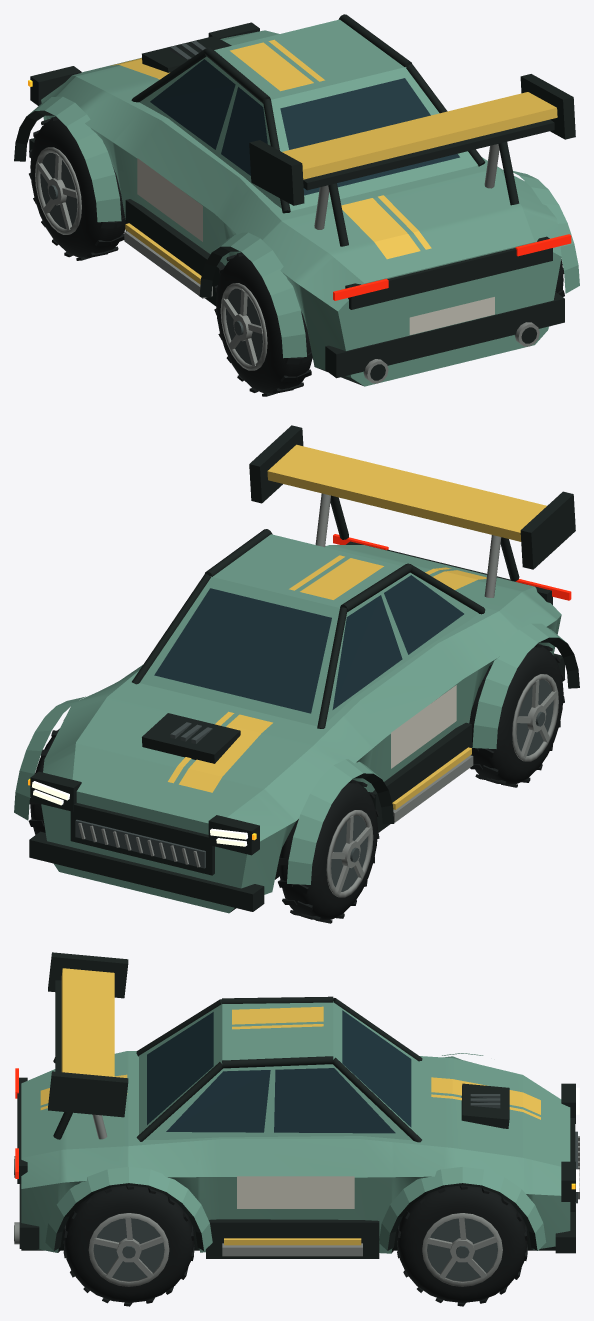
File: dart.glb
The picture shows the model from 3 angles, top to bottom: view 1: azimuth 30°, elevation 25°; view 2: azimuth 150°, elevation 25°; view 3: azimuth 270°, elevation 25°; orthographic projection. The views are drawn at different scales.
Visible parts, largest first — view 1: Body paint, Body trim, Body stripe, Body glass, Wheel rubber (×2), Wheel steel (×2), Body decal, Body steel, Wheel brake (×2), Body taillight; view 2: Body paint, Body trim, Body glass, Body stripe, Wheel rubber (×3), Wheel steel (×2), Body steel, Wheel brake (×2), Body decal, Body brake, Body headlight, Body taillight; view 3: Body paint, Body trim, Body glass, Wheel rubber (×2), Body stripe, Wheel brake (×2), Wheel steel (×2), Body decal, Body steel, Body brake.
Part boxes in pixels (x1,y1,x2,y2): Body paint: (28, 19, 579, 386); Body trim: (14, 14, 575, 385); Body stripe: (110, 39, 557, 284); Body glass: (150, 59, 459, 195); Wheel rubber (×2): (29, 116, 312, 396); Wheel steel (×2): (35, 147, 267, 370); Body decal: (137, 158, 494, 334); Body steel: (124, 144, 539, 383); Wheel brake (×2): (40, 153, 262, 364); Body taillight: (333, 234, 571, 300); Body paint: (14, 534, 566, 913); Body trim: (29, 425, 579, 912); Body glass: (154, 575, 463, 713); Body stripe: (168, 444, 546, 809); Wheel rubber (×3): (28, 643, 565, 923); Wheel steel (×2): (326, 674, 558, 897); Body steel: (78, 493, 501, 867); Wheel brake (×2): (331, 679, 553, 891); Body decal: (391, 685, 456, 768); Body brake: (75, 722, 212, 868); Body headlight: (32, 781, 247, 846); Body taillight: (333, 534, 571, 600); Body paint: (21, 1001, 570, 1253); Body trim: (14, 952, 575, 1258); Body glass: (147, 1010, 411, 1133); Wheel rubber (×2): (63, 1185, 527, 1306); Body stripe: (40, 968, 540, 1245); Wheel brake (×2): (93, 1218, 497, 1281); Wheel steel (×2): (88, 1213, 502, 1286); Body decal: (237, 1176, 354, 1208); Body steel: (14, 1114, 579, 1256); Body brake: (470, 1094, 577, 1203).
Bounding box in the file's own units: 1.93 × 1.56 × 3.46.
